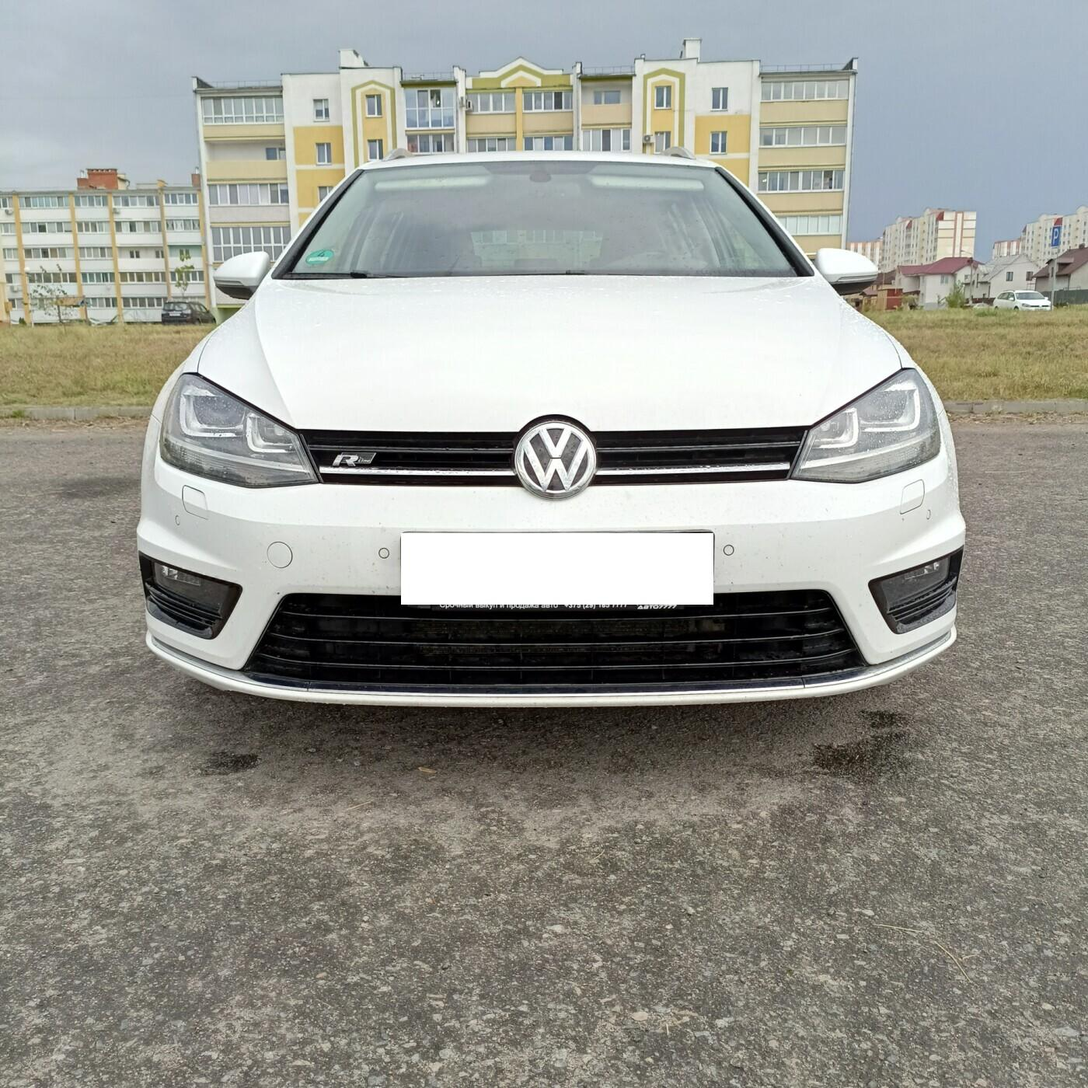Golf_2012-2017: (142, 148, 984, 716)
